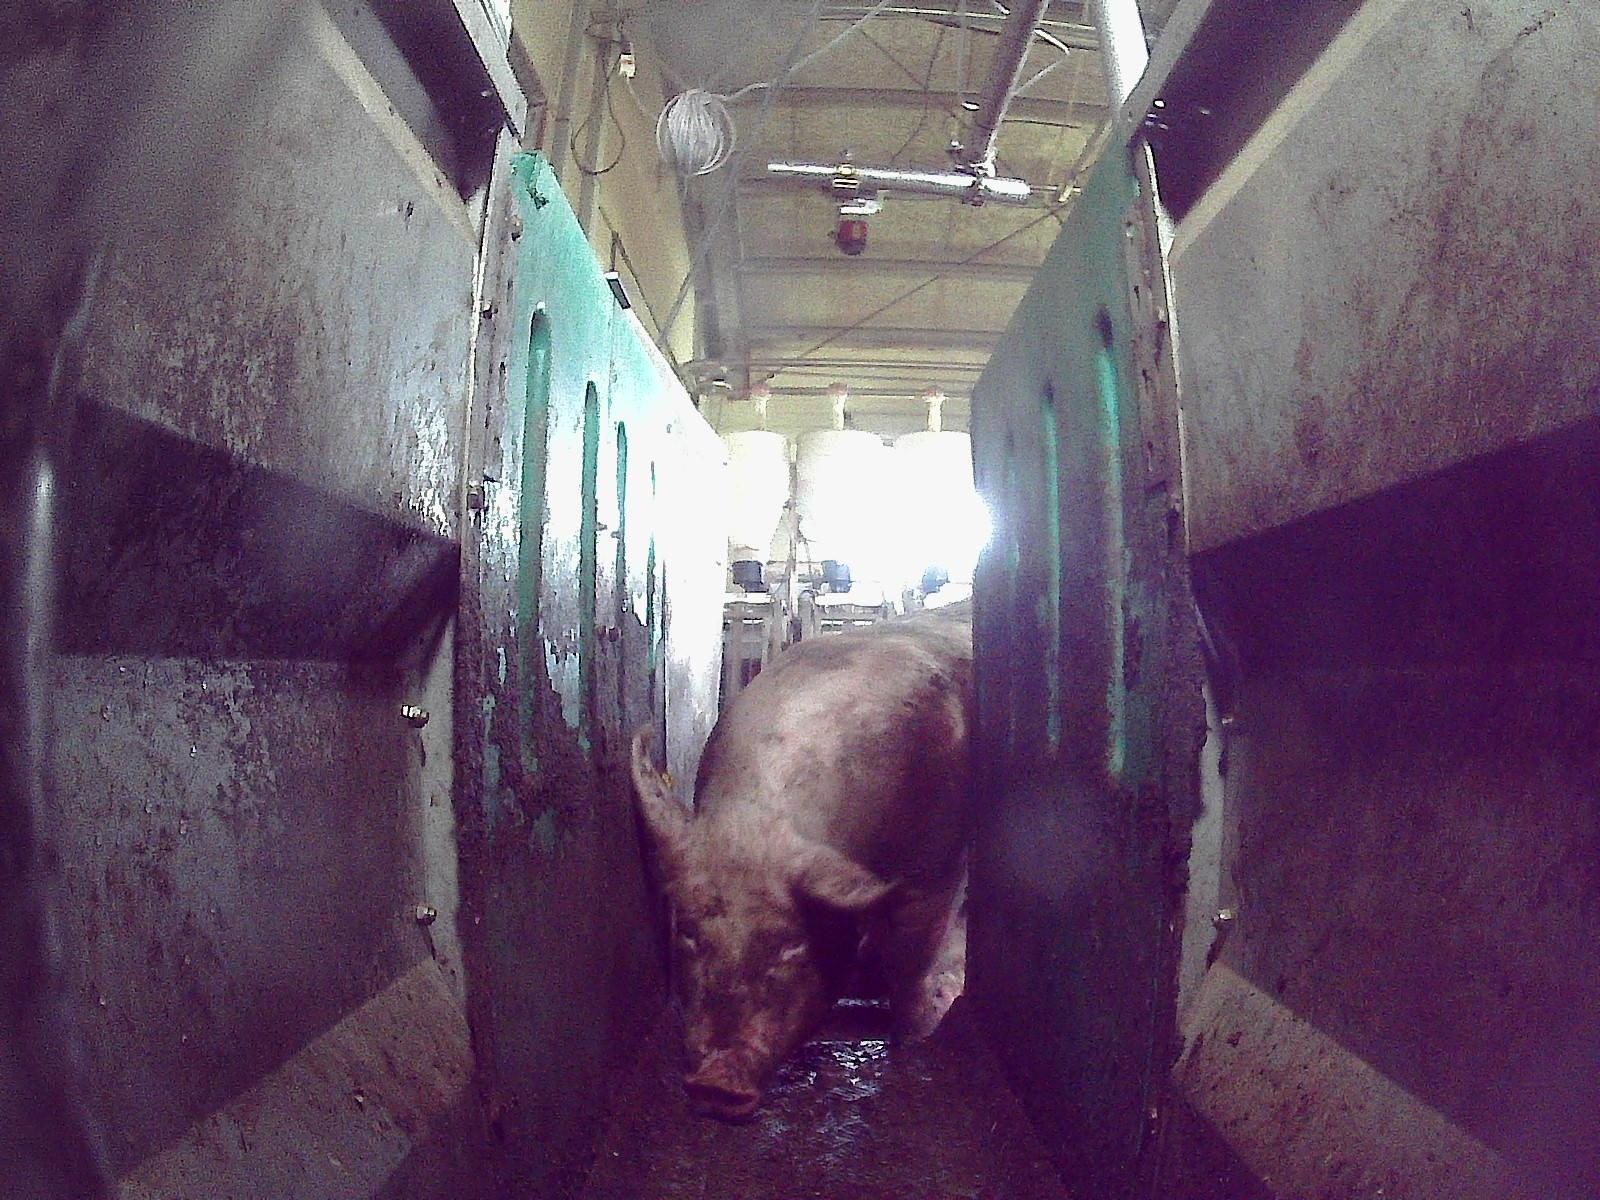Face: (662, 828, 834, 1117)
